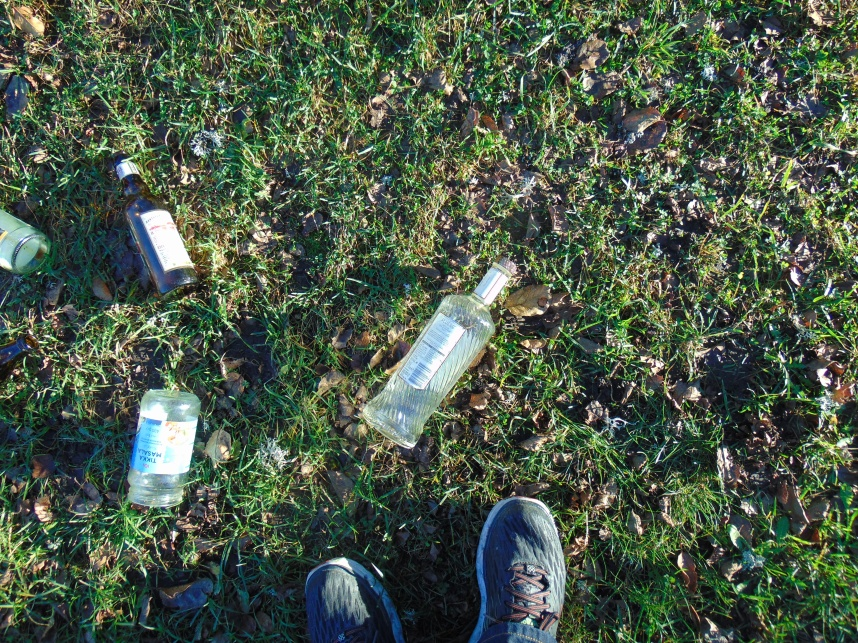glass_bottle: (363, 259, 512, 449), (112, 155, 199, 303), (127, 389, 198, 509), (1, 207, 52, 281)
